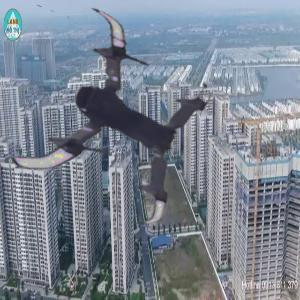drone: (8, 13, 210, 215)
